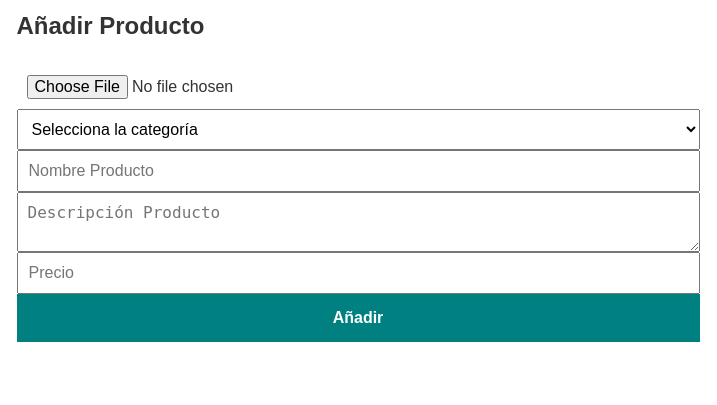
Test case: AddProduct Component › debería mostrar un mensaje de éxito cuando se añade un producto correctamente
The image size is (717, 405).
Expected: the dropdown is shown, x1=16 y1=109 x2=700 y2=150
Step 1. Type "Producto Nuevo" into the field with placeholder "Nombre Producto" → (358, 171), box x1=16 y1=150 x2=700 y2=192
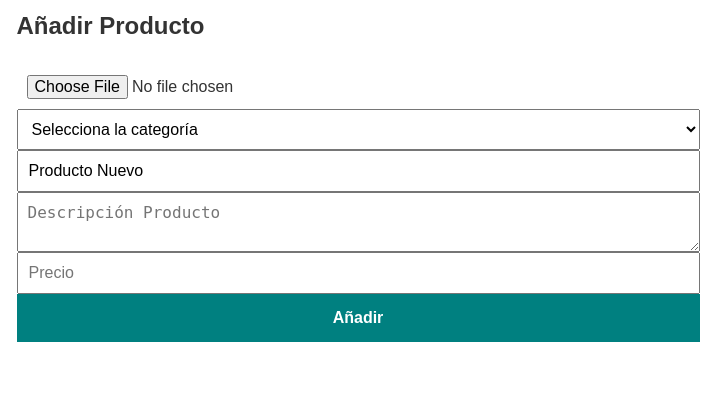
Step 2. Type "Descripción nueva" into the text box with placeholder "Descripción Producto" → (358, 222), box x1=16 y1=192 x2=700 y2=252
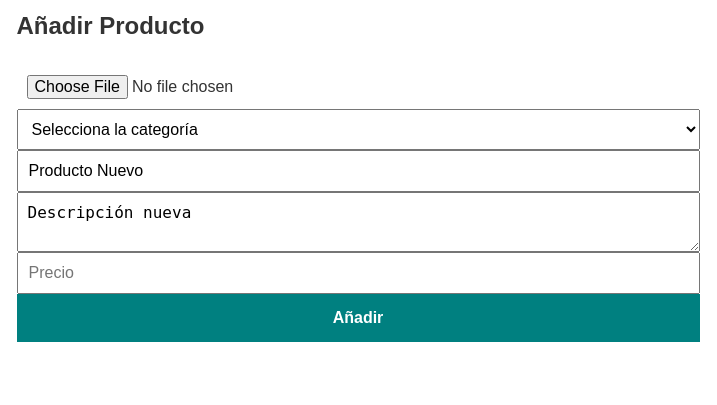
Step 3. Type "100" into the number field with placeholder "Precio" → (358, 273), box x1=16 y1=252 x2=700 y2=294
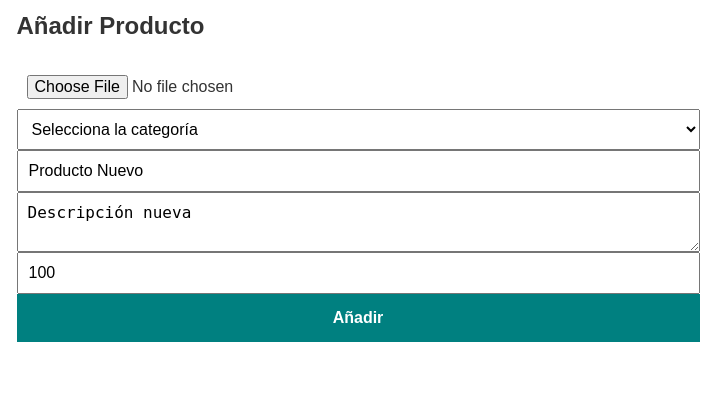
Step 4. Click the button "Añadir" → (358, 318), box x1=16 y1=294 x2=700 y2=342
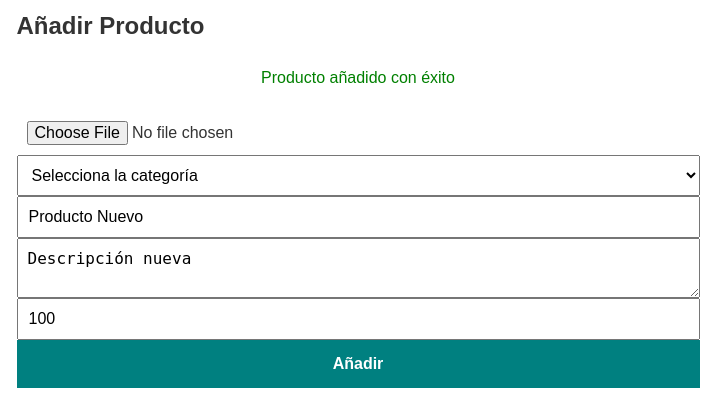
Expected: the text "Producto añadido con éxito" is shown, x1=261 y1=69 x2=455 y2=86
